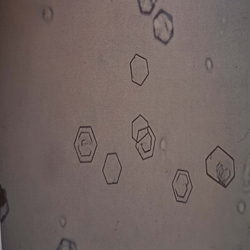Crystal: (200, 139, 240, 189), (149, 6, 185, 45), (68, 122, 99, 166), (126, 127, 163, 161), (169, 166, 195, 209), (126, 51, 156, 87), (100, 150, 124, 189), (128, 113, 151, 141), (134, 1, 160, 13)
